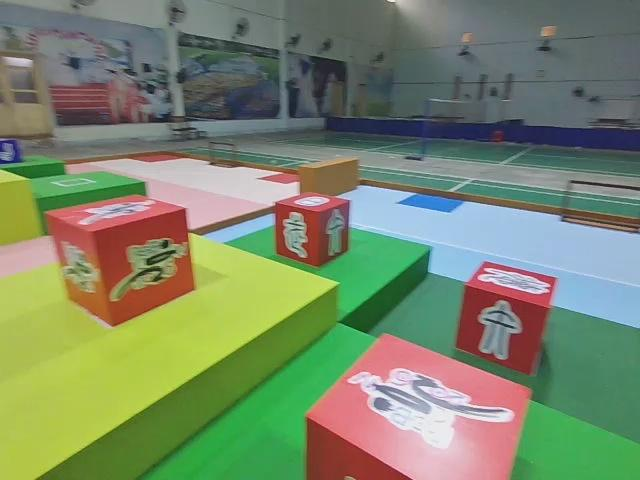R1: (303, 328, 535, 480), (42, 191, 197, 328)
R2 Fake: (452, 257, 560, 377), (272, 189, 354, 267)
